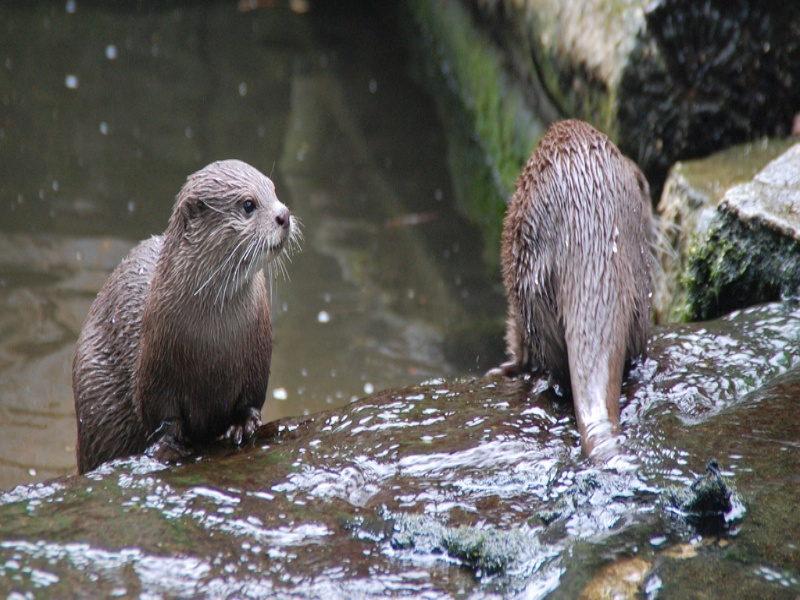minkish: (65, 148, 314, 491), (489, 118, 676, 489)
